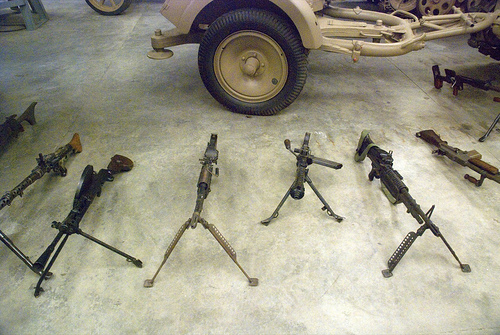rifle: (33, 169, 139, 289), (355, 125, 424, 272), (182, 129, 227, 240), (277, 124, 319, 213)
